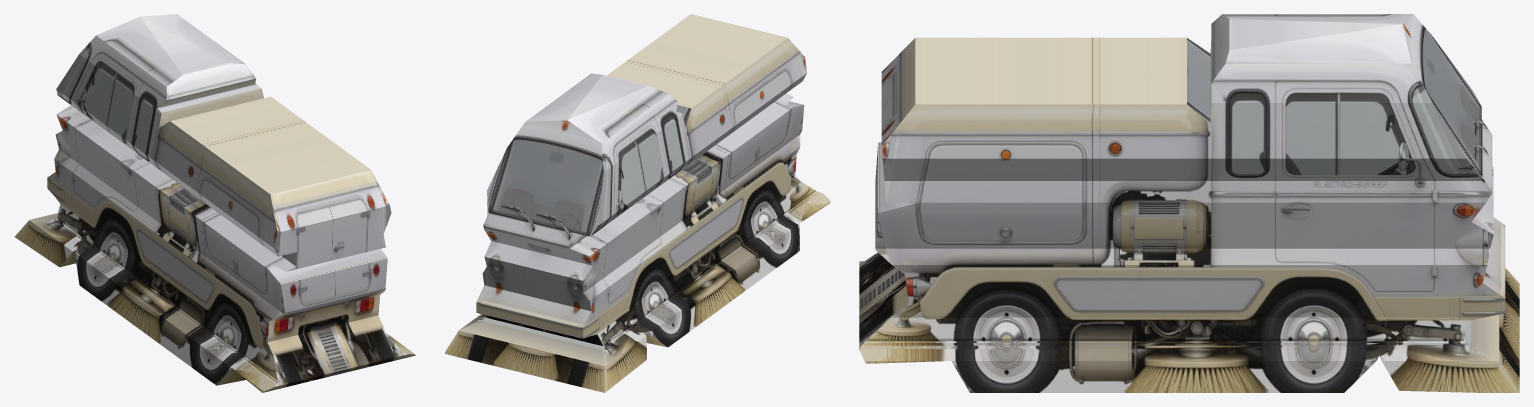
The model's file is street_sweeper.glb.
The picture shows the model from 3 angles, left to right: view 1: azimuth 30°, elevation 25°; view 2: azimuth 150°, elevation 25°; view 3: azimuth 270°, elevation 25°; orthographic projection. The views are drawn at different scales.
Parts seen in each view (by area): view 1: street_sweeper; view 2: street_sweeper; view 3: street_sweeper.
Boxes of the visible parts, <box> form: street_sweeper: <box>14,14,415,392</box>; street_sweeper: <box>445,14,830,392</box>; street_sweeper: <box>859,14,1519,392</box>.
Bounding box in the file's own units: 2.37 × 3.23 × 5.99.
Materials: 2 (1 with a texture image).
